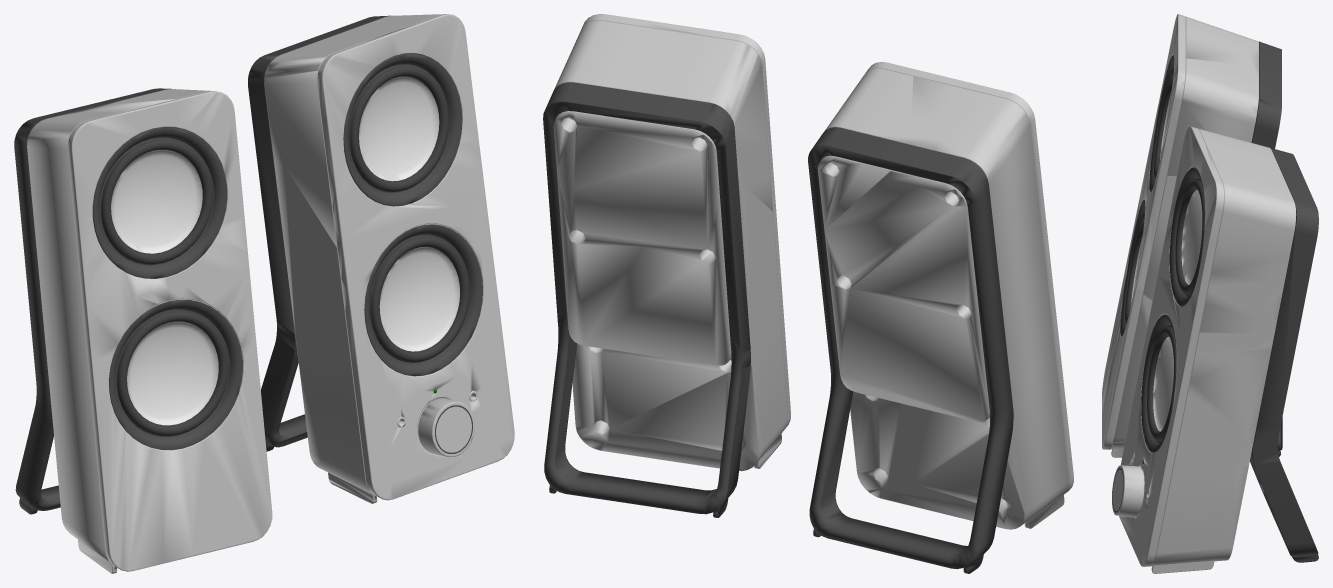
File: speakers.glb
The picture shows the model from 3 angles, left to right: view 1: azimuth 30°, elevation 25°; view 2: azimuth 150°, elevation 25°; view 3: azimuth 270°, elevation 25°; orthographic projection. The views are drawn at different scales.
Visible parts, largest first — view 1: Object_4, Object_6, Object_7; view 2: Object_4; view 3: Object_4, Object_7, Object_6.
Boxes of the visible parts, bbox=[...] form: Object_4: bbox=[14, 14, 514, 573]; Object_6: bbox=[111, 76, 459, 425]; Object_7: bbox=[100, 65, 469, 436]; Object_4: bbox=[543, 14, 1073, 573]; Object_4: bbox=[1102, 14, 1318, 573]; Object_7: bbox=[1125, 69, 1204, 442]; Object_6: bbox=[1131, 90, 1202, 431].
Size of the model in its own units: 5.26 by 4.96 by 2.55.
Materials: 4 (4 with a texture image).
